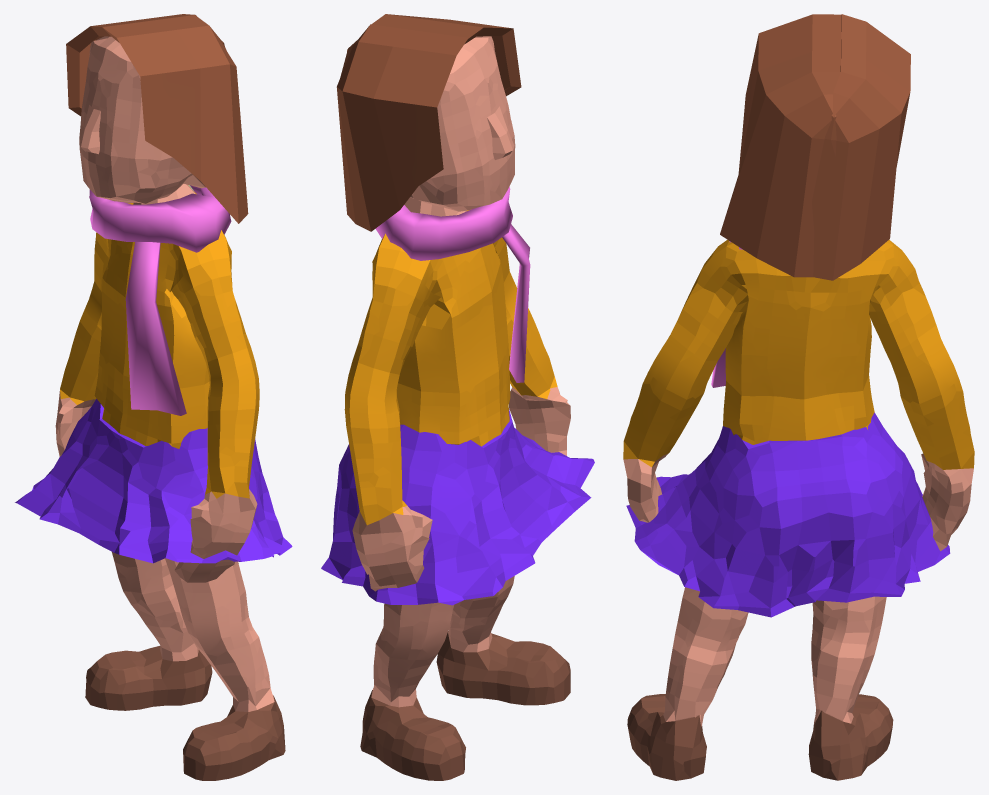
Rendered from NPC_Mother.obj.
The picture shows the model from 3 angles, left to right: view 1: azimuth 30°, elevation 25°; view 2: azimuth 150°, elevation 25°; view 3: azimuth 270°, elevation 25°; orthographic projection. The views are drawn at different scales.
Visible parts, largest first — view 1: Humanoide_Base_Humanoide_Base_Base_NPC__characterMedium_58d567f_, falda_Remesh_Applied_0402skirt_Circle.001_falda_Remesh__fb64d27_, Plane.002_Plane.002_MotherMaterial_Plane.002_Plane.002_MotherMat, bufanda_parte_de_abajo__Scarf_2.001_bufanda_parte_de_ab_ff3db8f_, bufanda_parte_de_arriba_Scarf_1.001_bufanda_parte_de_ar_6b218fb_, Plane.003_Plane.003_MotherMaterial_Plane.003_Plane.003_MotherMat, nariz_nariz_nariz_nariz_nariz_1.001_nariz_nariz_nariz_n_c60a3f5_; view 2: Humanoide_Base_Humanoide_Base_Base_NPC__characterMedium_58d567f_, falda_Remesh_Applied_0402skirt_Circle.001_falda_Remesh__fb64d27_, Plane.003_Plane.003_MotherMaterial_Plane.003_Plane.003_MotherMat, bufanda_parte_de_arriba_Scarf_1.001_bufanda_parte_de_ar_6b218fb_, Plane.002_Plane.002_MotherMaterial_Plane.002_Plane.002_MotherMat, bufanda_parte_de_abajo__Scarf_2.001_bufanda_parte_de_ab_ff3db8f_, nariz_nariz_nariz_nariz_nariz_1.001_nariz_nariz_nariz_n_c60a3f5_; view 3: Humanoide_Base_Humanoide_Base_Base_NPC__characterMedium_58d567f_, falda_Remesh_Applied_0402skirt_Circle.001_falda_Remesh__fb64d27_, Plane.002_Plane.002_MotherMaterial_Plane.002_Plane.002_MotherMat, Plane.003_Plane.003_MotherMaterial_Plane.003_Plane.003_MotherMat.
Boxes of the visible parts, x1,y1,x2,y2 form: Humanoide_Base_Humanoide_Base_Base_NPC__characterMedium_58d567f_: (55, 36, 285, 780); falda_Remesh_Applied_0402skirt_Circle.001_falda_Remesh__fb64d27_: (15, 398, 292, 563); Plane.002_Plane.002_MotherMaterial_Plane.002_Plane.002_MotherMat: (102, 15, 248, 223); bufanda_parte_de_abajo__Scarf_2.001_bufanda_parte_de_ab_ff3db8f_: (125, 242, 186, 415); bufanda_parte_de_arriba_Scarf_1.001_bufanda_parte_de_ar_6b218fb_: (89, 185, 231, 252); Plane.003_Plane.003_MotherMaterial_Plane.003_Plane.003_MotherMat: (66, 14, 224, 116); nariz_nariz_nariz_nariz_nariz_1.001_nariz_nariz_nariz_n_c60a3f5_: (79, 105, 100, 154); Humanoide_Base_Humanoide_Base_Base_NPC__characterMedium_58d567f_: (344, 36, 570, 780); falda_Remesh_Applied_0402skirt_Circle.001_falda_Remesh__fb64d27_: (321, 409, 594, 605); Plane.003_Plane.003_MotherMaterial_Plane.003_Plane.003_MotherMat: (336, 24, 468, 231); bufanda_parte_de_arriba_Scarf_1.001_bufanda_parte_de_ar_6b218fb_: (375, 186, 512, 260); Plane.002_Plane.002_MotherMaterial_Plane.002_Plane.002_MotherMat: (347, 14, 521, 96); bufanda_parte_de_abajo__Scarf_2.001_bufanda_parte_de_ab_ff3db8f_: (502, 224, 530, 382); nariz_nariz_nariz_nariz_nariz_1.001_nariz_nariz_nariz_n_c60a3f5_: (487, 106, 514, 159); Humanoide_Base_Humanoide_Base_Base_NPC__characterMedium_58d567f_: (623, 239, 974, 780); falda_Remesh_Applied_0402skirt_Circle.001_falda_Remesh__fb64d27_: (626, 412, 950, 617); Plane.002_Plane.002_MotherMaterial_Plane.002_Plane.002_MotherMat: (720, 14, 841, 277); Plane.003_Plane.003_MotherMaterial_Plane.003_Plane.003_MotherMat: (812, 14, 910, 280).
Bounding box in the file's own units: 11.06 × 37.79 × 16.81.
